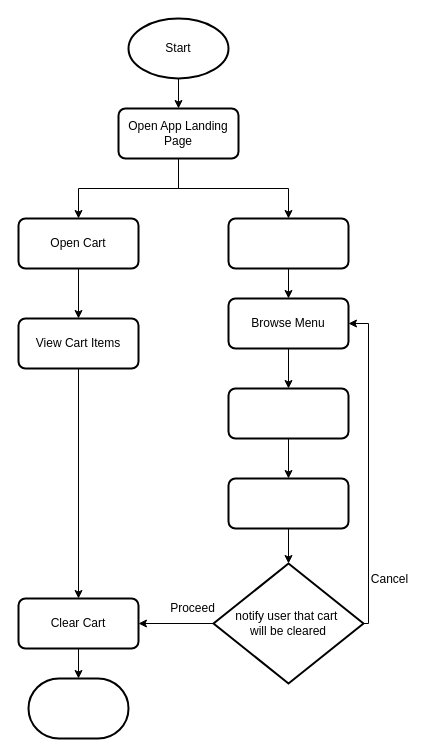
This 425x756 diagram has some shape labels left out. The shapes that lost their labels are listed below. From the top down, each one's centre as x and y in pixels, then its label:
At point 288,243: "select a different restaurant".
At point 288,413: "Select Menu Item".
At point 288,503: "Add desired Item to cart".
At point 78,708: "End".
